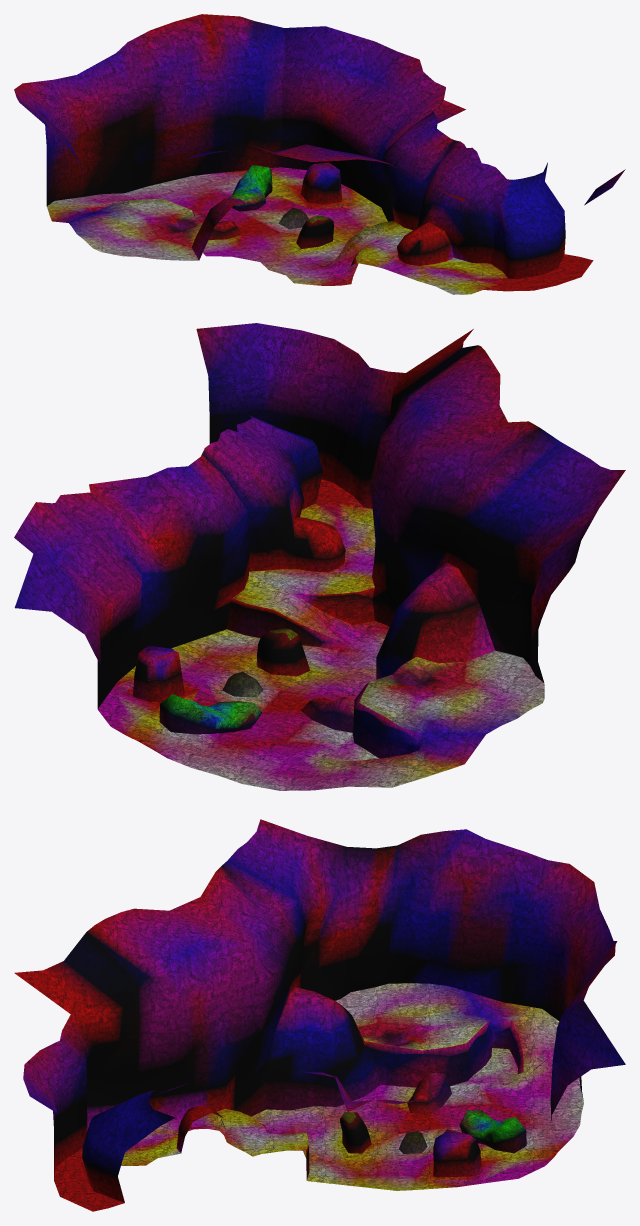
Rendered from Level3Remeshed.glb.
3 views of the same model, one above another, from view 1: azimuth 30°, elevation 25°; view 2: azimuth 150°, elevation 25°; view 3: azimuth 270°, elevation 25° (orthographic). The views are drawn at different scales.
Visible parts, largest first — view 1: Level3Remeshed; view 2: Level3Remeshed; view 3: Level3Remeshed.
Boxes of the visible parts, x1,y1,x2,y2 form: Level3Remeshed: (14, 14, 625, 294); Level3Remeshed: (14, 323, 625, 790); Level3Remeshed: (14, 819, 625, 1211).
Size of the model in its own units: 107 by 42.08 by 115.
1 material, 1 textured.
